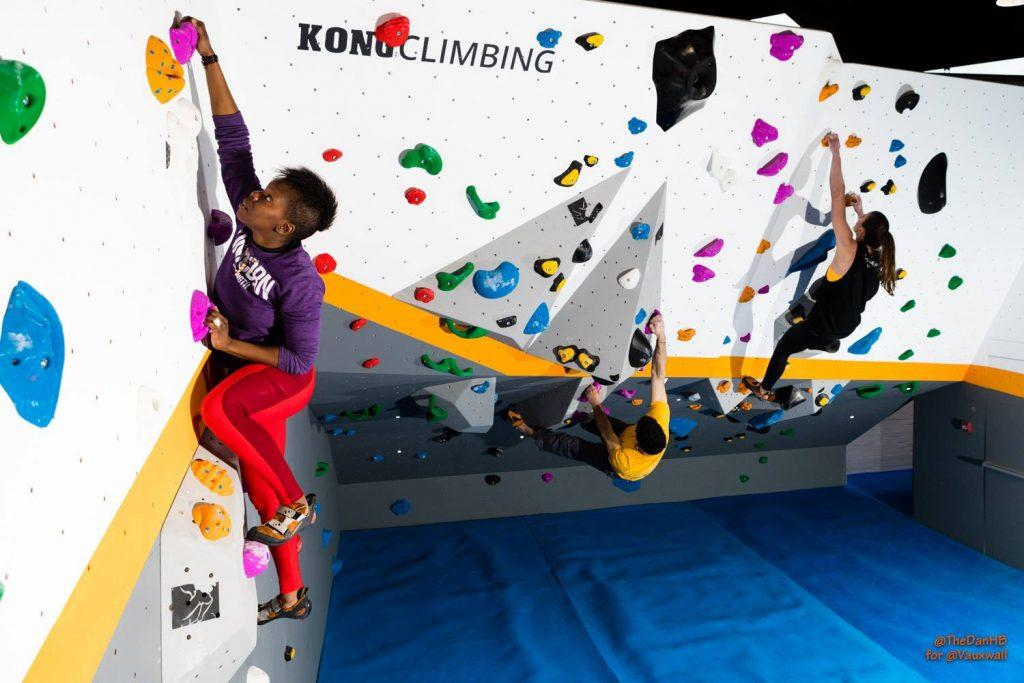black-hold: (0, 280, 64, 428), (649, 25, 721, 133), (124, 31, 196, 107), (0, 58, 46, 144), (184, 453, 245, 502), (787, 227, 842, 281), (185, 490, 237, 546), (468, 257, 526, 305), (399, 137, 450, 184), (455, 182, 503, 225), (916, 151, 948, 215), (762, 22, 806, 67), (563, 188, 607, 232), (371, 12, 418, 53), (517, 301, 559, 343), (432, 259, 480, 295), (185, 290, 216, 343), (847, 322, 887, 362), (744, 116, 783, 155), (418, 353, 474, 380), (755, 146, 793, 184), (442, 317, 489, 345), (241, 538, 273, 579), (553, 157, 589, 193), (169, 22, 198, 64), (890, 85, 924, 119), (747, 405, 787, 433), (566, 237, 599, 270), (692, 236, 729, 265), (571, 346, 603, 376), (574, 28, 607, 55), (311, 249, 340, 278), (534, 24, 563, 53), (782, 301, 811, 330), (623, 112, 650, 139), (813, 80, 843, 104), (610, 475, 643, 496), (546, 271, 570, 297), (533, 257, 561, 279), (773, 182, 796, 208), (849, 81, 875, 104), (426, 396, 448, 422), (936, 242, 959, 265), (878, 177, 901, 200), (737, 283, 758, 308), (670, 418, 698, 436), (612, 151, 637, 171), (842, 131, 864, 153), (412, 285, 436, 305), (552, 346, 578, 364), (752, 236, 774, 257), (691, 264, 716, 282), (714, 376, 735, 397), (347, 314, 370, 333), (856, 384, 884, 399), (615, 384, 638, 402), (246, 666, 270, 683), (945, 273, 965, 293), (630, 307, 650, 327), (812, 390, 832, 410), (858, 177, 878, 197), (897, 297, 919, 315), (390, 498, 412, 516), (404, 188, 426, 205), (897, 346, 916, 365), (890, 153, 909, 172), (630, 222, 650, 240), (345, 408, 370, 422), (368, 401, 385, 421), (676, 327, 697, 343), (733, 380, 751, 398), (581, 153, 600, 170), (495, 315, 518, 328), (322, 148, 343, 162), (413, 447, 430, 464), (470, 380, 490, 394), (314, 462, 330, 478), (818, 134, 834, 150), (738, 330, 754, 346), (898, 382, 918, 394), (888, 139, 906, 152), (830, 382, 845, 397), (757, 283, 772, 298), (322, 530, 332, 550), (779, 428, 797, 439), (362, 358, 380, 369), (284, 646, 296, 662), (737, 472, 751, 485), (332, 558, 342, 576), (926, 328, 942, 338), (739, 402, 753, 413), (896, 268, 908, 280), (370, 453, 384, 463), (322, 414, 336, 424), (542, 472, 554, 483), (330, 428, 344, 436), (721, 335, 732, 345), (631, 399, 644, 407), (758, 455, 769, 464), (755, 442, 769, 449), (688, 404, 702, 411), (346, 428, 358, 436)
